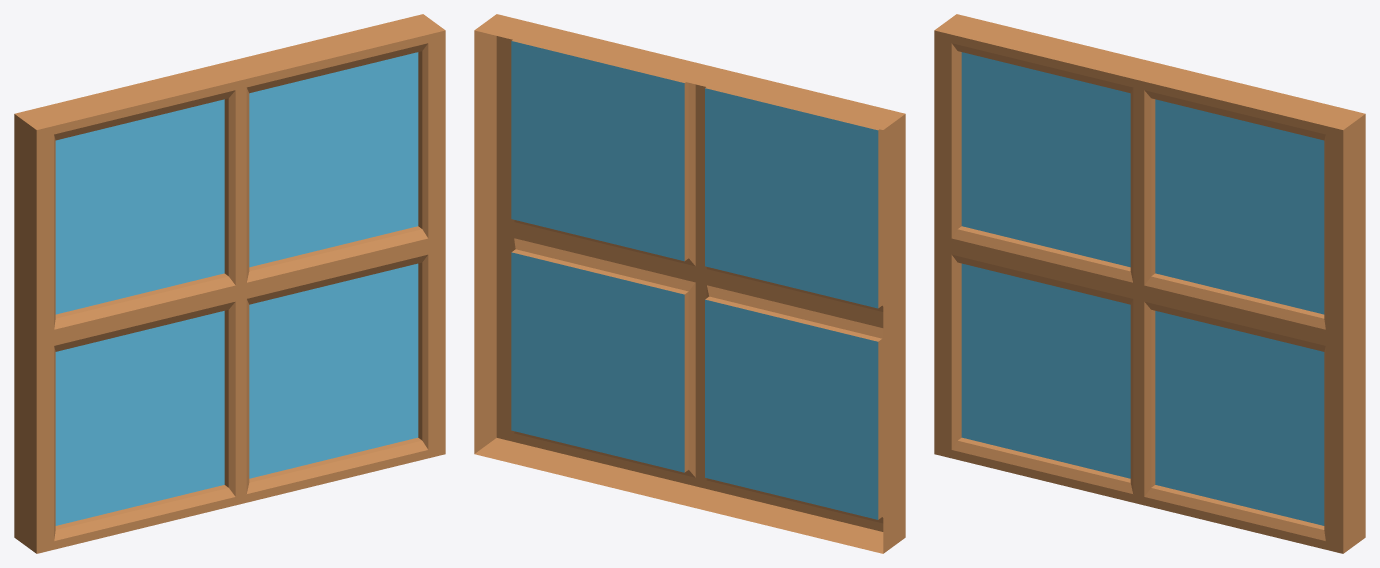
The model's file is Window4.fbx.
3 renders of one model, left to right at view 1: azimuth 30°, elevation 25°; view 2: azimuth 150°, elevation 25°; view 3: azimuth 330°, elevation 25°, orthographic.
Visible parts, largest first — view 1: Window4; view 2: Window4; view 3: Window4.
Part boxes in pixels (x1,y1,x2,y2): Window4: [14, 14, 445, 553]; Window4: [474, 14, 905, 553]; Window4: [934, 14, 1365, 553].
Bounding box in the file's own units: 2.22 × 0.2106 × 2.2.
